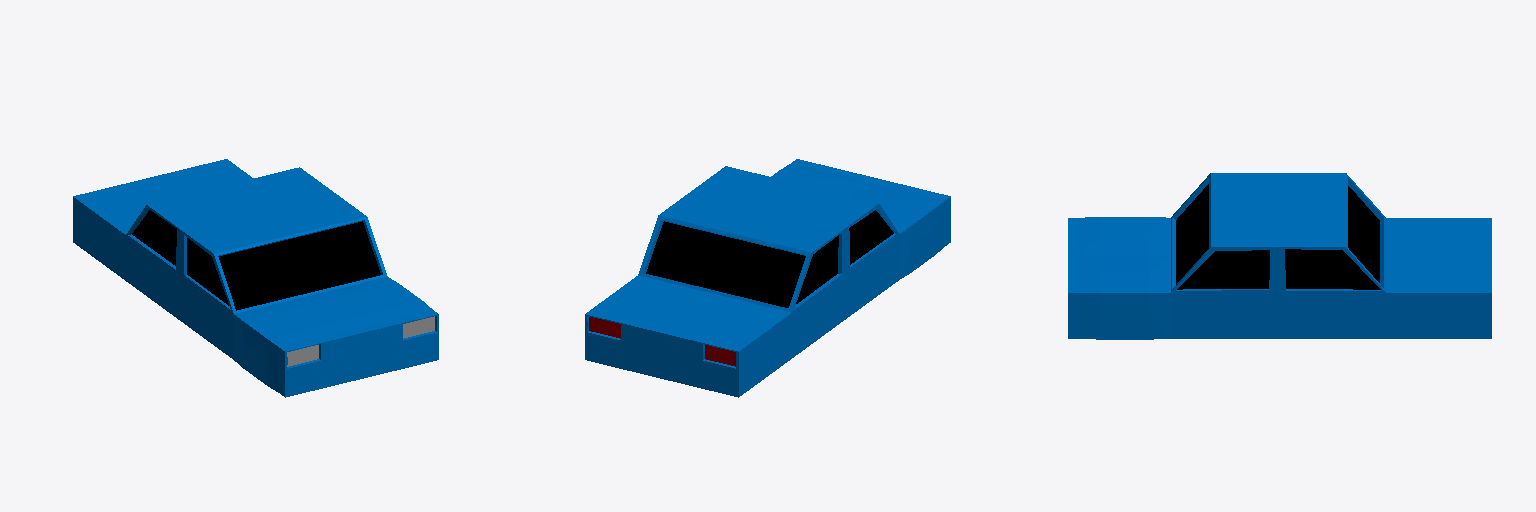
Rendered from Car.obj.
3 renders of one model, left to right at view 1: azimuth 30°, elevation 25°; view 2: azimuth 150°, elevation 25°; view 3: azimuth 270°, elevation 25°, orthographic.
Parts seen in each view (by area): view 1: Cube; view 2: Cube; view 3: Cube.
Part boxes in pixels (x1,y1,x2,y2): Cube: (73,159,438,397); Cube: (585,159,950,397); Cube: (1068,173,1491,339).
Bounding box in the file's own units: 1.68 × 0.9489 × 3.96.